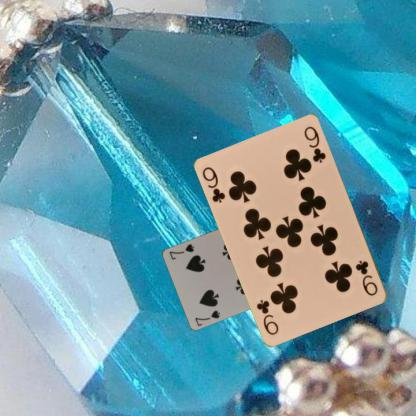7s: (192, 307, 222, 327)
9c: (200, 164, 227, 205), (353, 258, 380, 298)
